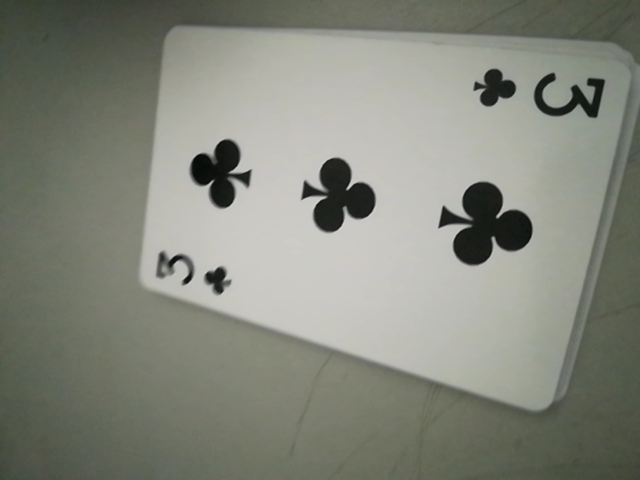mh 3: (473, 61, 604, 127), (151, 244, 236, 302)
